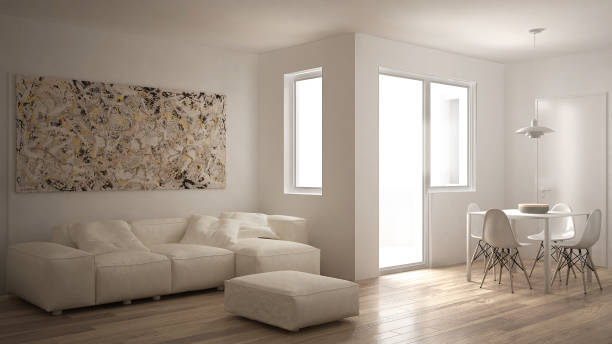dining table set: (463, 199, 605, 296)
floor lamp: (512, 99, 556, 203)
sofa: (4, 209, 323, 318)
wall art: (11, 72, 229, 192)
